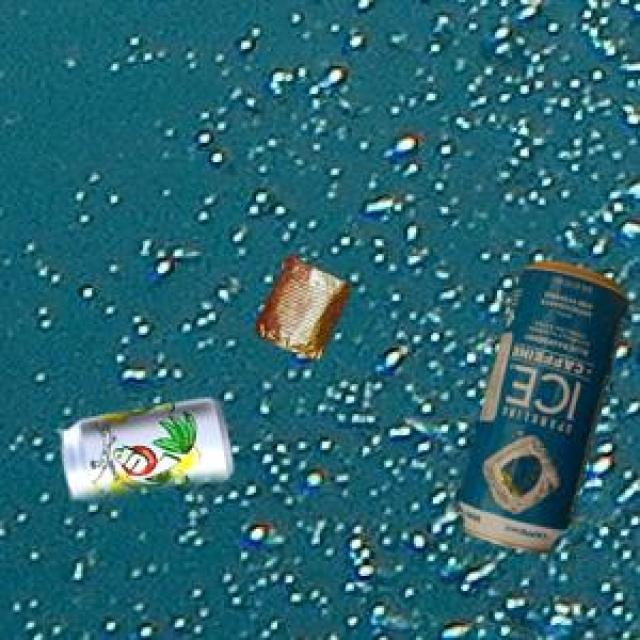Can: (455, 259, 626, 549), (59, 396, 229, 494), (253, 253, 347, 355)
